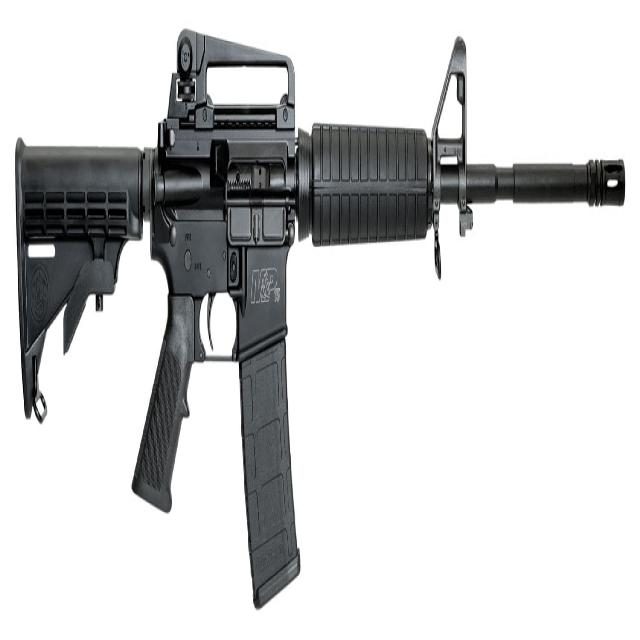Rifle: (14, 29, 625, 611)
